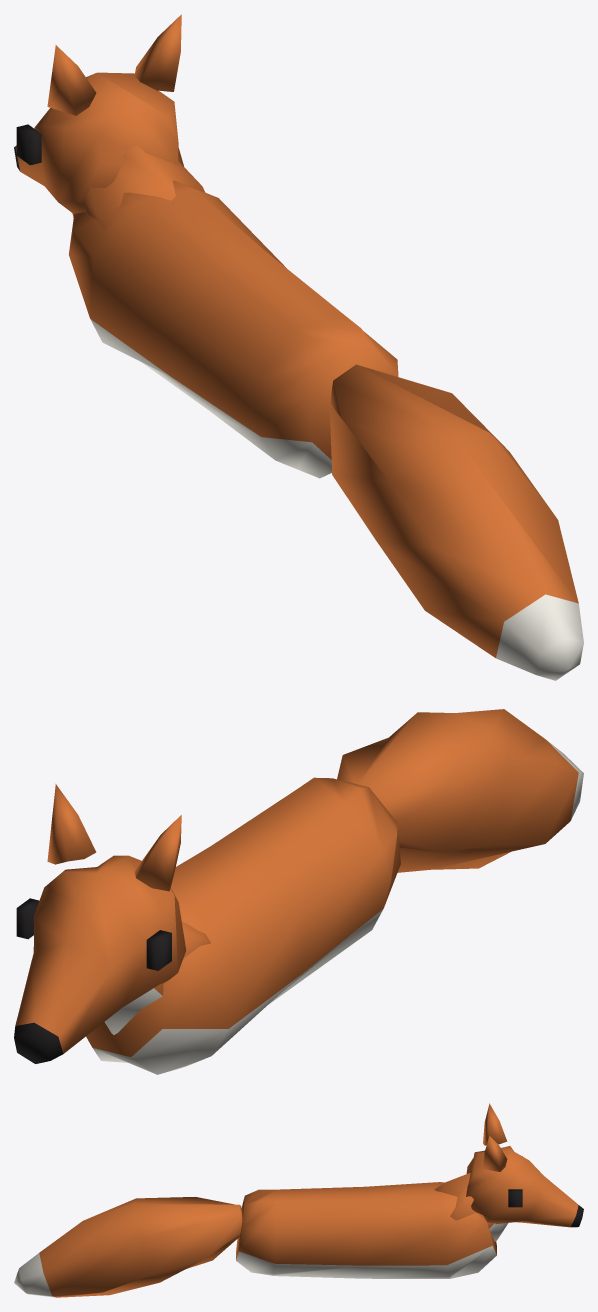
Rendered from animal_fox_red.obj.
The picture shows the model from 3 angles, top to bottom: view 1: azimuth 30°, elevation 25°; view 2: azimuth 150°, elevation 25°; view 3: azimuth 270°, elevation 25°; orthographic projection. The views are drawn at different scales.
Parts seen in each view (by area): view 1: animal_fox_red_component_01_stage_1, animal_fox_red_component_08_stage_1, animal_fox_red_component_03_stage_1, animal_fox_red_component_02_stage_1, animal_fox_red_component_07_stage_1, animal_fox_red_component_06_stage_1, animal_fox_red_component_04_stage_1; view 2: animal_fox_red_component_01_stage_1, animal_fox_red_component_08_stage_1, animal_fox_red_component_03_stage_1, animal_fox_red_component_07_stage_1, animal_fox_red_component_06_stage_1, animal_fox_red_component_02_stage_1, animal_fox_red_component_04_stage_1, animal_fox_red_component_05_stage_1; view 3: animal_fox_red_component_01_stage_1, animal_fox_red_component_08_stage_1, animal_fox_red_component_03_stage_1, animal_fox_red_component_02_stage_1, animal_fox_red_component_07_stage_1, animal_fox_red_component_06_stage_1, animal_fox_red_component_05_stage_1.
Part boxes in pixels (box(x1,y1,x2,y2)): animal_fox_red_component_01_stage_1: box(68, 180, 398, 478); animal_fox_red_component_08_stage_1: box(330, 364, 583, 680); animal_fox_red_component_03_stage_1: box(14, 72, 183, 213); animal_fox_red_component_02_stage_1: box(72, 145, 205, 230); animal_fox_red_component_07_stage_1: box(134, 14, 181, 91); animal_fox_red_component_06_stage_1: box(47, 45, 96, 115); animal_fox_red_component_04_stage_1: box(16, 124, 41, 165); animal_fox_red_component_01_stage_1: box(86, 777, 400, 1074); animal_fox_red_component_08_stage_1: box(337, 709, 583, 872); animal_fox_red_component_03_stage_1: box(14, 855, 186, 1063); animal_fox_red_component_07_stage_1: box(47, 784, 96, 864); animal_fox_red_component_06_stage_1: box(134, 815, 181, 891); animal_fox_red_component_02_stage_1: box(105, 921, 210, 1034); animal_fox_red_component_04_stage_1: box(146, 930, 171, 970); animal_fox_red_component_05_stage_1: box(16, 898, 39, 939); animal_fox_red_component_01_stage_1: box(236, 1182, 496, 1278); animal_fox_red_component_08_stage_1: box(14, 1197, 242, 1297); animal_fox_red_component_03_stage_1: box(466, 1146, 583, 1227); animal_fox_red_component_02_stage_1: box(434, 1173, 508, 1241); animal_fox_red_component_07_stage_1: box(483, 1136, 507, 1171); animal_fox_red_component_06_stage_1: box(483, 1103, 507, 1145); animal_fox_red_component_05_stage_1: box(508, 1189, 522, 1207).
Bounding box in the file's own units: 0.1932 × 0.4397 × 1.27.
